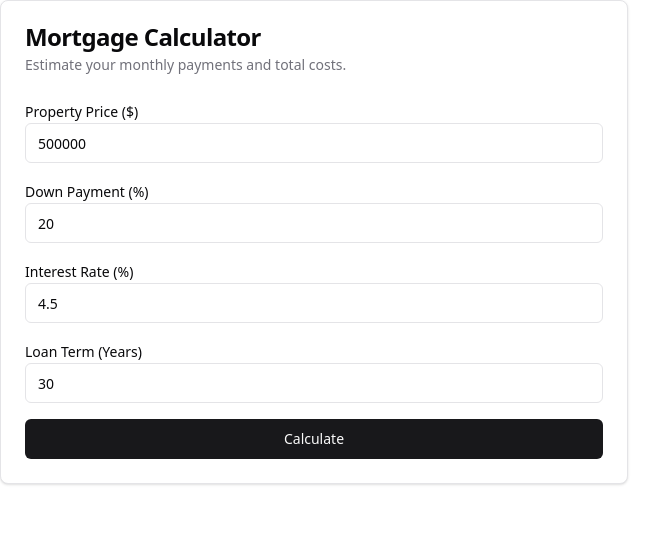
Scenario: MortgageCalculator › handles errors
This screenshot has width=645, height=546.
Click the button "Calculate" at (314, 439), box [25,419,603,459]
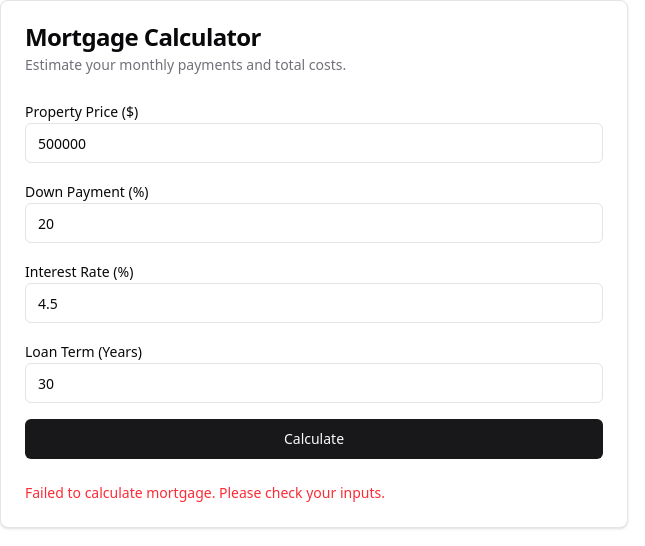
Result: the text "Failed to calculate mortgage. Please check your inputs." is shown at [25,483,385,502]
